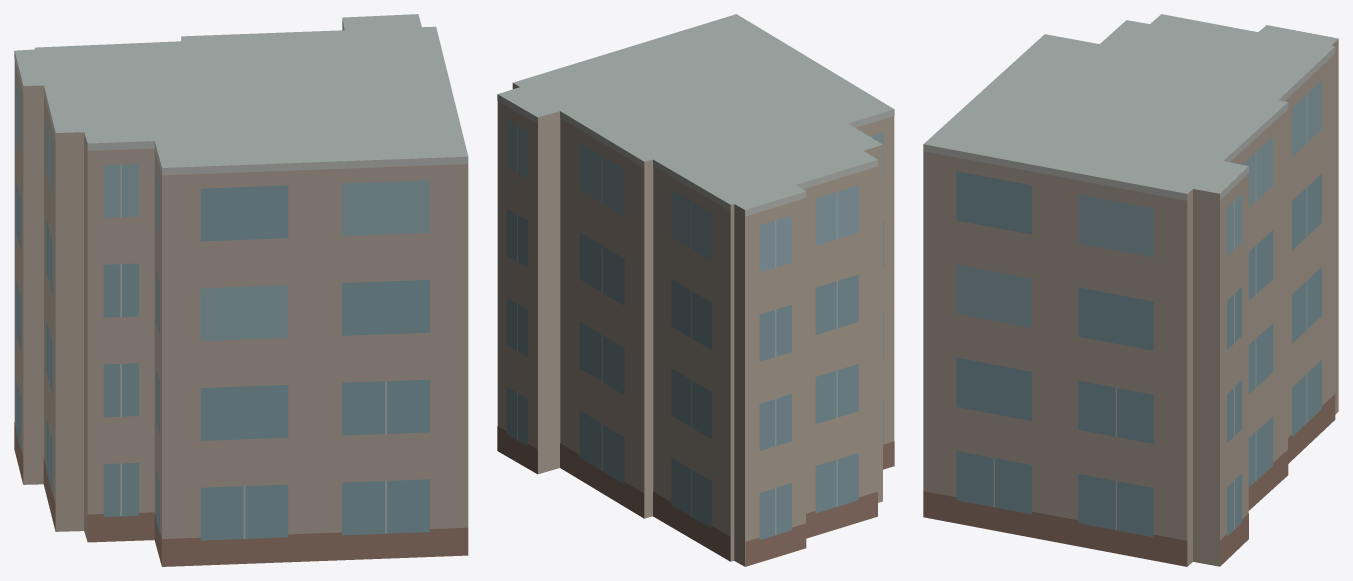
The model's file is survey-upis-33016473.glb.
3 renders of one model, left to right at view 1: azimuth 30°, elevation 25°; view 2: azimuth 150°, elevation 25°; view 3: azimuth 270°, elevation 25°, orthographic. The views are drawn at different scales.
Visible parts, largest first — view 1: survey-upis-33016473.tmp; view 2: survey-upis-33016473.tmp; view 3: survey-upis-33016473.tmp.
Part boxes in pixels (x1,y1,x2,y2): survey-upis-33016473.tmp: (14, 14, 468, 566); survey-upis-33016473.tmp: (497, 14, 894, 566); survey-upis-33016473.tmp: (923, 14, 1338, 566).
Bounding box in the file's own units: 13.56 × 13.1 × 13.23.
